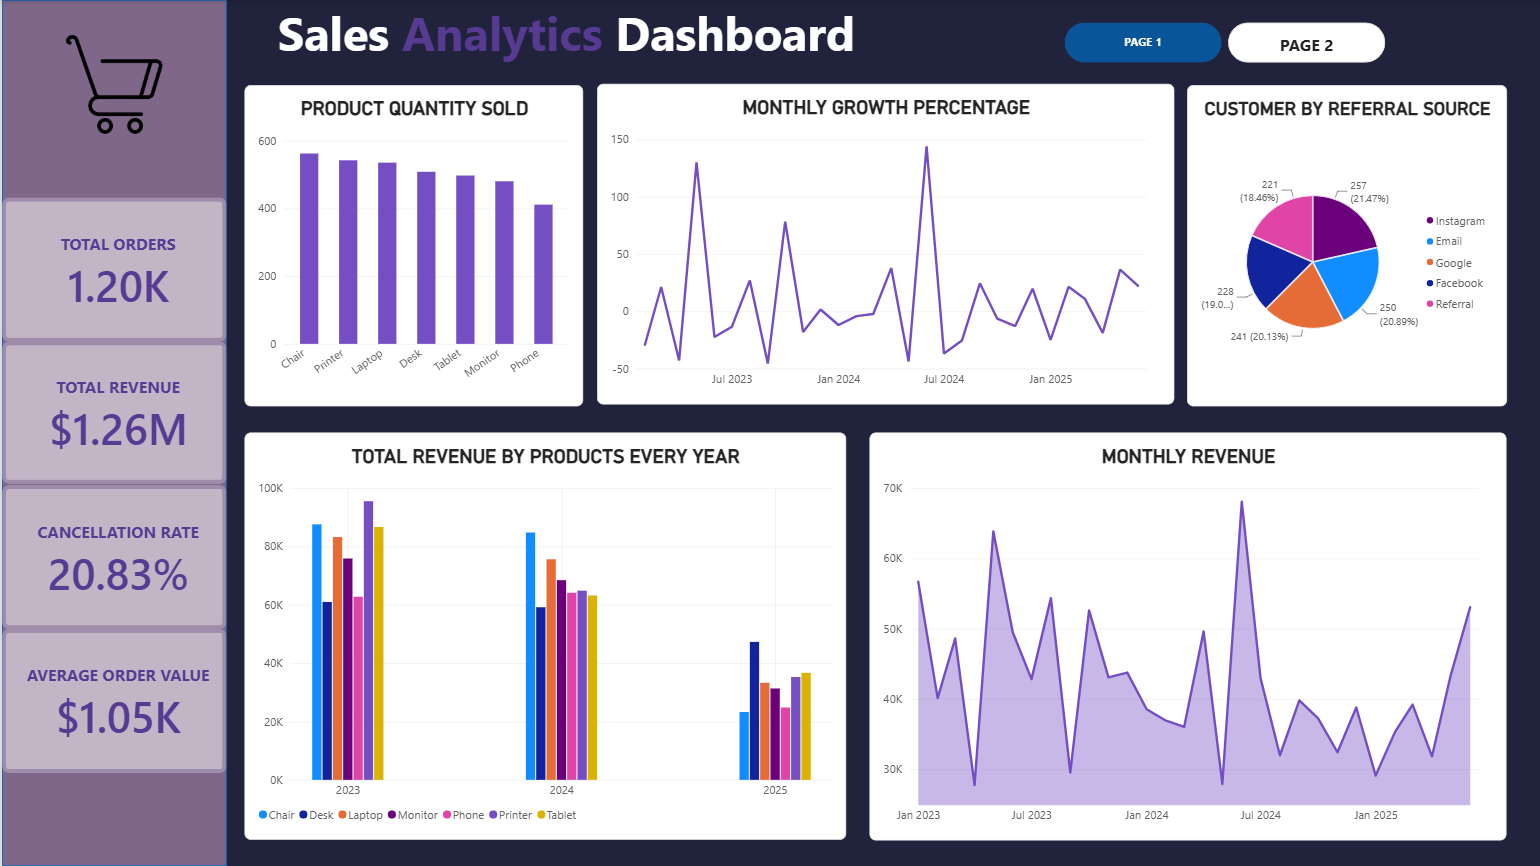

The dashboard page shown, as its layout file describes it:
{"tool":"powerbi","page":{"name":"PAGE 1","canvas":[1920,1080],"ordinal":0},"visuals":[{"type":"textbox","box":[280,0,846.7,130],"z":0},{"type":"shape","box":[0,0,280,1080],"z":1000},{"type":"image","box":[0,0,280,210],"z":2000},{"type":"cardVisual","fields":{"Data":["Sum(online_store_analysis vw_total_orders.total_orders)"]},"box":[0,245.7,280,180],"z":3000},{"type":"cardVisual","fields":{"Data":["Sum(online_store_analysis vw_total_revenue.total_revenue)"]},"box":[0,425.7,280,178],"z":4000},{"type":"cardVisual","fields":{"Data":["Sum(online_store_analysis vw_cancellation_rate.cancellation_rate_percentage)"]},"box":[0,604.3,280,180],"z":5000},{"type":"cardVisual","fields":{"Data":["Sum(online_store_analysis vw_average_order_value.average_order_value)"]},"box":[0,784.3,280,180],"z":6000},{"type":"clusteredColumnChart","title":"TOTAL REVENUE BY  PRODUCTS EVERY YEAR","fields":{"Category":["online_store_analysis vw_yearly_product_revenue.order_year"],"Series":["online_store_analysis vw_yearly_product_revenue.Product"],"Y":["Sum(online_store_analysis vw_yearly_product_revenue.total_revenue)"]},"box":[302,540,750,508],"z":7000},{"type":"columnChart","title":"PRODUCT QUANTITY SOLD","fields":{"Category":["online_store_analysis vw_product_quantity_sold.Product"],"Y":["Sum(online_store_analysis vw_product_quantity_sold.total_quantity_sold)"]},"box":[302.4,106,422.5,400.6],"z":8000},{"type":"lineChart","title":"MONTHLY GROWTH PERCENTAGE","fields":{"Category":["online_store_analysis vw_monthly_growth.month_start.Variation.Date Hierarchy.Year","online_store_analysis vw_monthly_growth.month_start.Variation.Date Hierarchy.Quarter","online_store_analysis vw_monthly_growth.month_start.Variation.Date Hierarchy.Month","online_store_analysis vw_monthly_growth.month_start.Variation.Date Hierarchy.Day"],"Y":["Sum(online_store_analysis vw_monthly_growth.growth_percentage)"]},"box":[742,104.4,720,400],"z":9000},{"type":"lineChart","title":"MONTHLY REVENUE","fields":{"Category":["online_store_analysis vw_monthly_revenue.month_start.Variation.Date Hierarchy.Year","online_store_analysis vw_monthly_revenue.month_start.Variation.Date Hierarchy.Quarter","online_store_analysis vw_monthly_revenue.month_start.Variation.Date Hierarchy.Month","online_store_analysis vw_monthly_revenue.month_start.Variation.Date Hierarchy.Day"],"Y":["Sum(online_store_analysis vw_monthly_revenue.monthly_revenue)"]},"box":[1081.4,540,794.3,508.6],"z":10000},{"type":"pieChart","title":"CUSTOMER BY REFERRAL SOURCE","fields":{"Category":["online_store_analysis vw_customers_by_referral_source.ReferralSource"],"Y":["Sum(online_store_analysis vw_customers_by_referral_source.total_customers)"]},"box":[1477.8,106,399.1,400.6],"z":11000},{"type":"pageNavigator","box":[1325,28.3,400,50],"z":11001}]}

Visuals, with their boxes in screenshot pixels (x1, y1, x2, y2), scaled from the page's 1920x1080 canvas onto the 1540x866 screenshot:
textbox: box=[225, 0, 904, 104]
shape: box=[0, 0, 225, 865]
image: box=[0, 0, 225, 168]
cardVisual - Sum(online_store_analysis vw_total_orders.total_orders): box=[0, 197, 225, 341]
cardVisual - Sum(online_store_analysis vw_total_revenue.total_revenue): box=[0, 341, 225, 484]
cardVisual - Sum(online_store_analysis vw_cancellation_rate.cancellation_rate_percentage): box=[0, 485, 225, 629]
cardVisual - Sum(online_store_analysis vw_average_order_value.average_order_value): box=[0, 629, 225, 773]
"TOTAL REVENUE BY  PRODUCTS EVERY YEAR" clusteredColumnChart: box=[242, 433, 844, 840]
"PRODUCT QUANTITY SOLD" columnChart: box=[243, 85, 581, 406]
"MONTHLY GROWTH PERCENTAGE" lineChart: box=[595, 84, 1173, 404]
"MONTHLY REVENUE" lineChart: box=[867, 433, 1504, 841]
"CUSTOMER BY REFERRAL SOURCE" pieChart: box=[1185, 85, 1505, 406]
pageNavigator: box=[1063, 23, 1384, 63]
